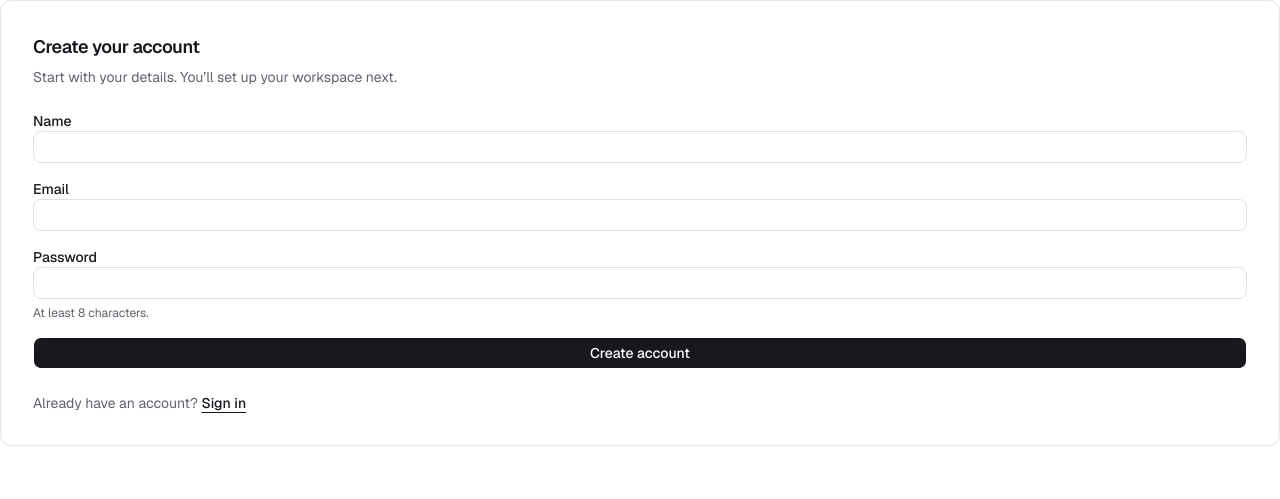
SignupPage › shows an error when the email is already registered
Type "Alice" into the field labelled "Name" at [640, 147], box [33,131,1247,163]
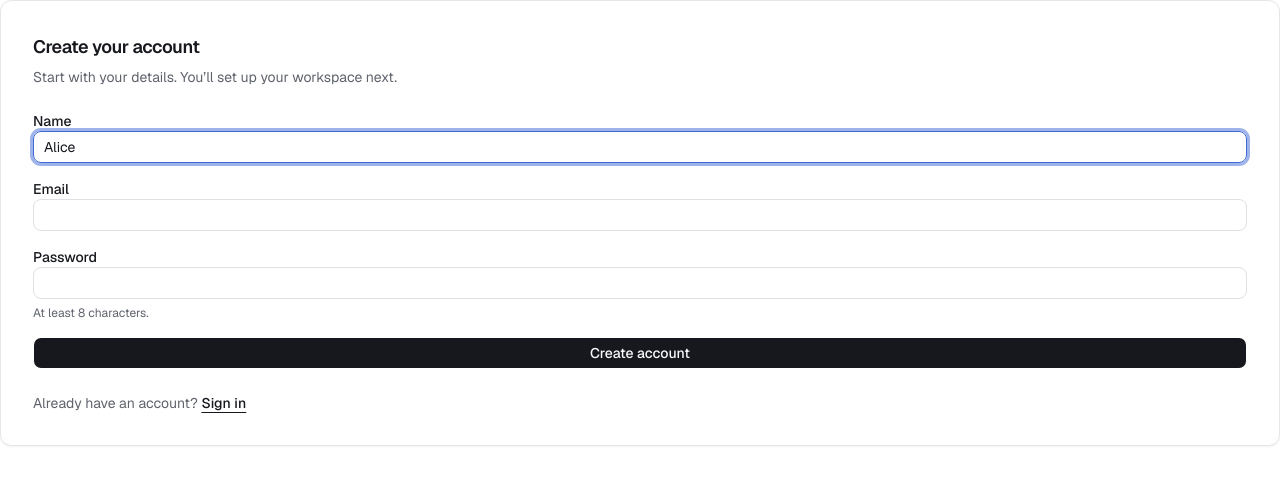
Type "a@b.com" into the field labelled "Email" at [640, 215], box [33,199,1247,231]
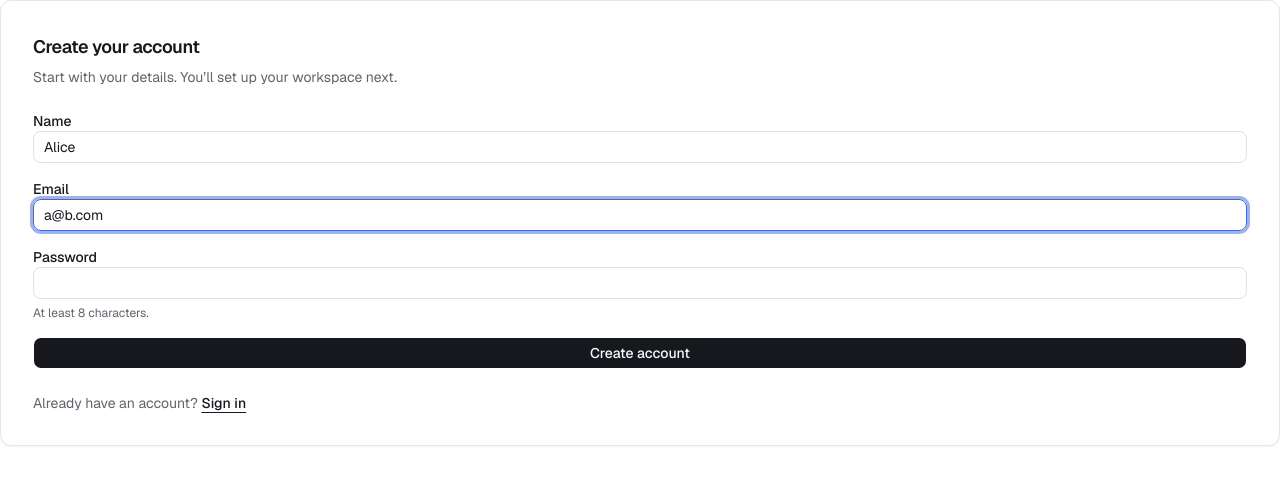
Type "correct horse battery" into the password field labelled "Password" at [640, 283], box [33,267,1247,299]
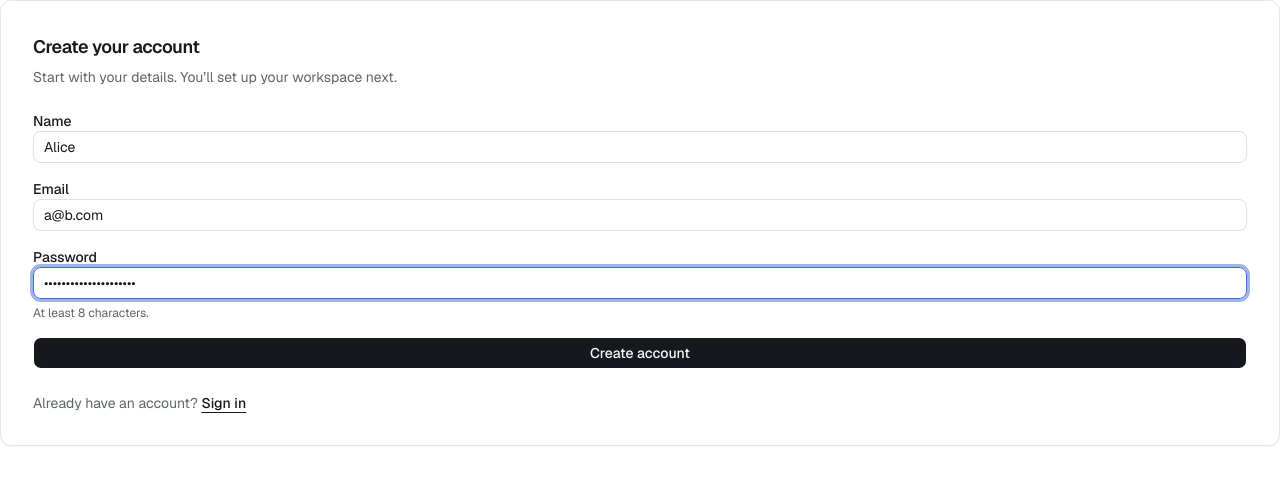
Click the button "Create account" at [640, 353], box [33,337,1247,369]
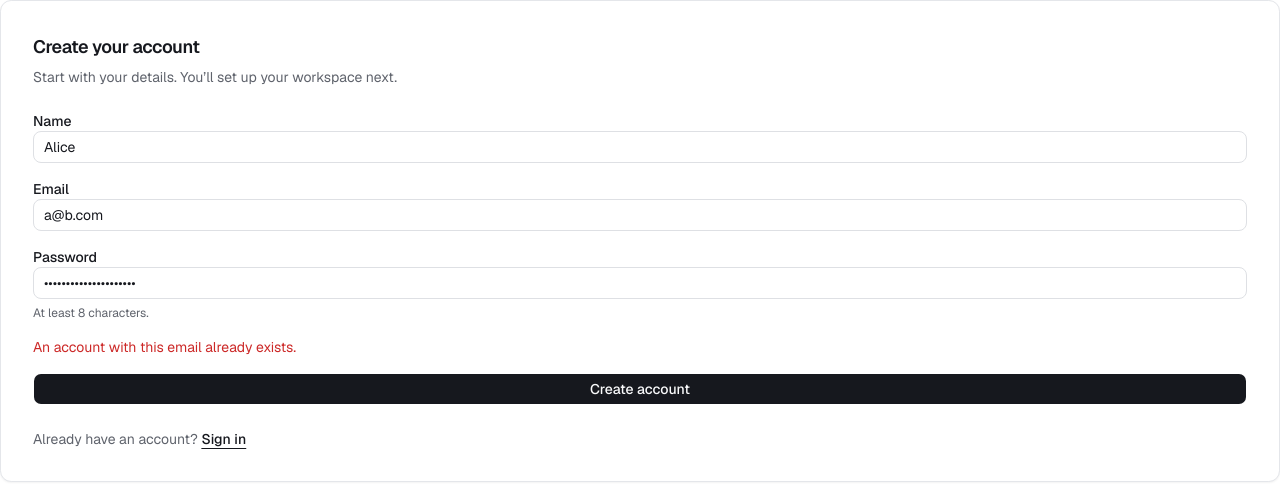
Now the message reads "An account with this email already exists.", box [33,338,296,356]
